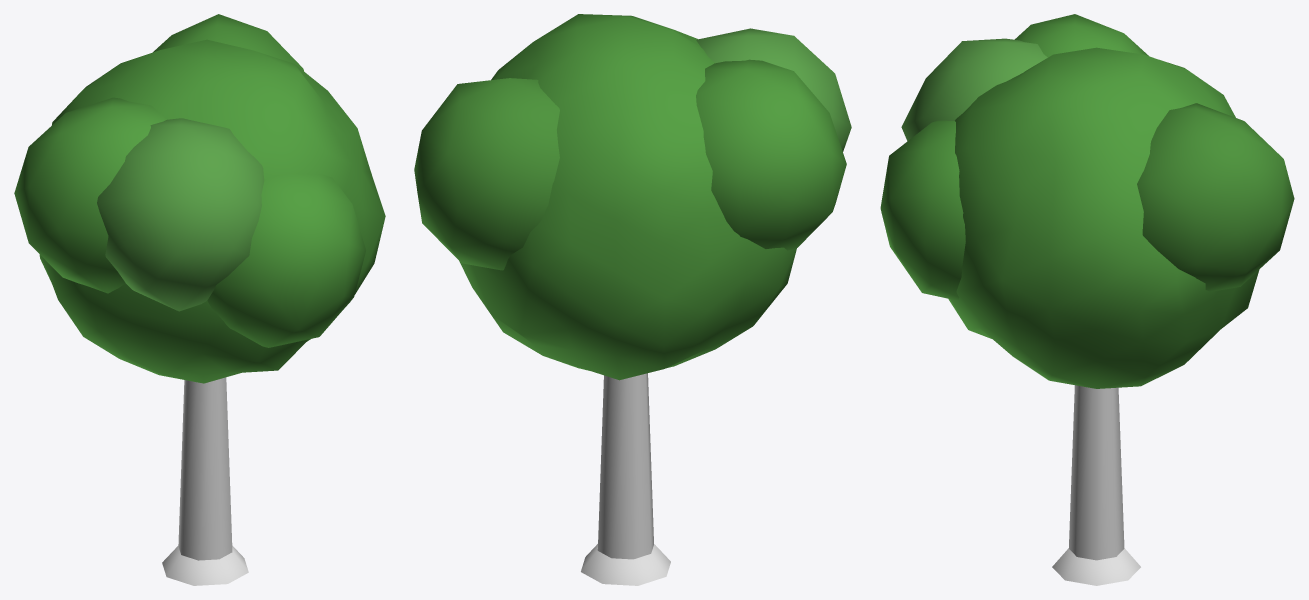
The model's file is tree_round.fbx.
3 renders of one model, left to right at view 1: azimuth 30°, elevation 25°; view 2: azimuth 150°, elevation 25°; view 3: azimuth 270°, elevation 25°, orthographic. The views are drawn at different scales.
Parts seen in each view (by area): view 1: tree_round_canopy, tree_round; view 2: tree_round_canopy, tree_round; view 3: tree_round_canopy, tree_round.
Boxes of the visible parts, bbox=[...] form: tree_round_canopy: bbox=[14, 14, 385, 383]; tree_round: bbox=[162, 377, 248, 585]; tree_round_canopy: bbox=[414, 14, 851, 380]; tree_round: bbox=[581, 373, 670, 585]; tree_round_canopy: bbox=[880, 14, 1294, 388]; tree_round: bbox=[1052, 385, 1140, 585].
Bounding box in the file's own units: 0.9662 × 1.37 × 1.02.
